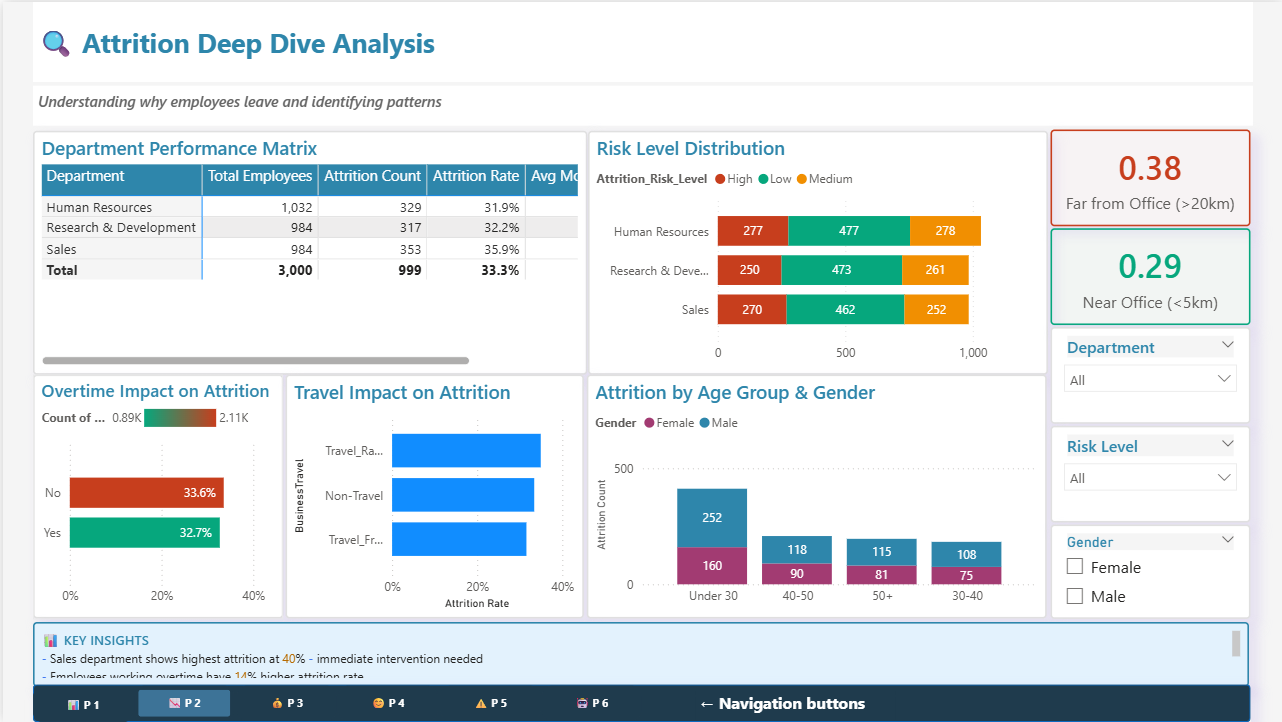

Layout of this report page (visuals, bound fields, positions):
{"tool":"powerbi","page":{"name":"Attrition Analysis","canvas":[1280,720],"ordinal":1},"visuals":[{"type":"textbox","box":[30,0,1220,80],"z":0},{"type":"textbox","box":[30.3,83.7,1220,40],"z":1000},{"type":"pivotTable","title":"Department Performance Matrix","fields":{"Rows":["HR_Analytics_Enhanced.Department"],"Values":["01. Basic KPIs.Total Employees","01. Basic KPIs.Attrition Count","01. Basic KPIs.Attrition Rate","03. Compensation Analysis.Avg Monthly Income"]},"box":[30.6,128.2,554,244],"z":2000},{"type":"barChart","title":"Risk Level Distribution","fields":{"Category":["HR_Analytics_Enhanced.Department"],"Y":["01. Basic KPIs.Total Employees"],"Series":["HR_Analytics_Enhanced.Attrition_Risk_Level"]},"box":[584.4,128.2,460,244],"z":3000},{"type":"clusteredBarChart","title":"Overtime Impact on Attrition","fields":{"Category":["HR_Analytics_Enhanced.OverTime"],"Y":["01. Basic KPIs.Attrition Rate"]},"box":[30,373,250,244],"z":4000},{"type":"clusteredBarChart","title":"Travel Impact on Attrition","fields":{"Category":["HR_Analytics_Enhanced.BusinessTravel"],"Y":["01. Basic KPIs.Attrition Rate"]},"box":[282,373,298,244],"z":5000},{"type":"card","fields":{"Values":["01. Basic KPIs.Remote Attrition Rate"]},"box":[1047.7,128,200,97],"z":6000},{"type":"card","fields":{"Values":["01. Basic KPIs.Near Office Attrition Rate"]},"box":[1047.7,226.6,200,97],"z":7000},{"type":"columnChart","title":"Attrition by Age Group & Gender","fields":{"Category":["HR_Analytics_Enhanced.Age_Group"],"Y":["01. Basic KPIs.Attrition Count"],"Series":["HR_Analytics_Enhanced.Gender"]},"box":[584.4,373,460,244],"z":8000},{"type":"slicer","fields":{"Values":["HR_Analytics_Enhanced.Department"]},"box":[1047.7,325.3,200,97],"z":9000},{"type":"slicer","fields":{"Values":["HR_Analytics_Enhanced.Attrition_Risk_Level"]},"box":[1047.7,423.9,200,97],"z":10000},{"type":"slicer","fields":{"Values":["HR_Analytics_Enhanced.Gender"]},"box":[1047.7,522.5,200,94.6],"z":11000},{"type":"textbox","box":[30,620,1216.2,65],"z":12000},{"type":"shape","box":[30,682.5,1217.5,37.5],"z":12001},{"type":"textbox","box":[692.5,685,200,33],"z":12002},{"type":"actionButton","box":[30,685,100,35],"z":12003},{"type":"actionButton","box":[131.8,684,100,35],"z":12004},{"type":"actionButton","box":[233.5,684,100,35],"z":12005},{"type":"actionButton","box":[335.2,684,100,35],"z":12006},{"type":"actionButton","box":[437,684,100,35],"z":12007},{"type":"actionButton","box":[538.8,683.8,100,35],"z":12008}]}

Visuals, with their boxes on the page's 1280x720 design canvas (x1, y1, x2, y2). These are canvas units, not pixel positions in the 1282x722 screenshot, which may show the page scaled, cropped or inside an application window:
textbox: {"x1": 30, "y1": 0, "x2": 1250, "y2": 80}
textbox: {"x1": 30, "y1": 84, "x2": 1250, "y2": 124}
"Department Performance Matrix" pivotTable: {"x1": 31, "y1": 128, "x2": 585, "y2": 372}
"Risk Level Distribution" barChart: {"x1": 584, "y1": 128, "x2": 1044, "y2": 372}
"Overtime Impact on Attrition" clusteredBarChart: {"x1": 30, "y1": 373, "x2": 280, "y2": 617}
"Travel Impact on Attrition" clusteredBarChart: {"x1": 282, "y1": 373, "x2": 580, "y2": 617}
card - 01. Basic KPIs.Remote Attrition Rate: {"x1": 1048, "y1": 128, "x2": 1248, "y2": 225}
card - 01. Basic KPIs.Near Office Attrition Rate: {"x1": 1048, "y1": 227, "x2": 1248, "y2": 324}
"Attrition by Age Group & Gender" columnChart: {"x1": 584, "y1": 373, "x2": 1044, "y2": 617}
slicer - HR_Analytics_Enhanced.Department: {"x1": 1048, "y1": 325, "x2": 1248, "y2": 422}
slicer - HR_Analytics_Enhanced.Attrition_Risk_Level: {"x1": 1048, "y1": 424, "x2": 1248, "y2": 521}
slicer - HR_Analytics_Enhanced.Gender: {"x1": 1048, "y1": 522, "x2": 1248, "y2": 617}
textbox: {"x1": 30, "y1": 620, "x2": 1246, "y2": 685}
shape: {"x1": 30, "y1": 682, "x2": 1248, "y2": 720}
textbox: {"x1": 692, "y1": 685, "x2": 892, "y2": 718}
actionButton: {"x1": 30, "y1": 685, "x2": 130, "y2": 720}
actionButton: {"x1": 132, "y1": 684, "x2": 232, "y2": 719}
actionButton: {"x1": 234, "y1": 684, "x2": 334, "y2": 719}
actionButton: {"x1": 335, "y1": 684, "x2": 435, "y2": 719}
actionButton: {"x1": 437, "y1": 684, "x2": 537, "y2": 719}
actionButton: {"x1": 539, "y1": 684, "x2": 639, "y2": 719}
